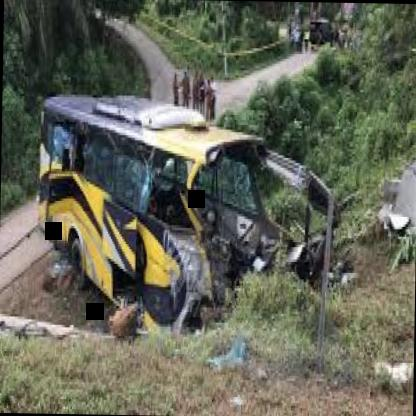accident: (31, 85, 352, 374)
